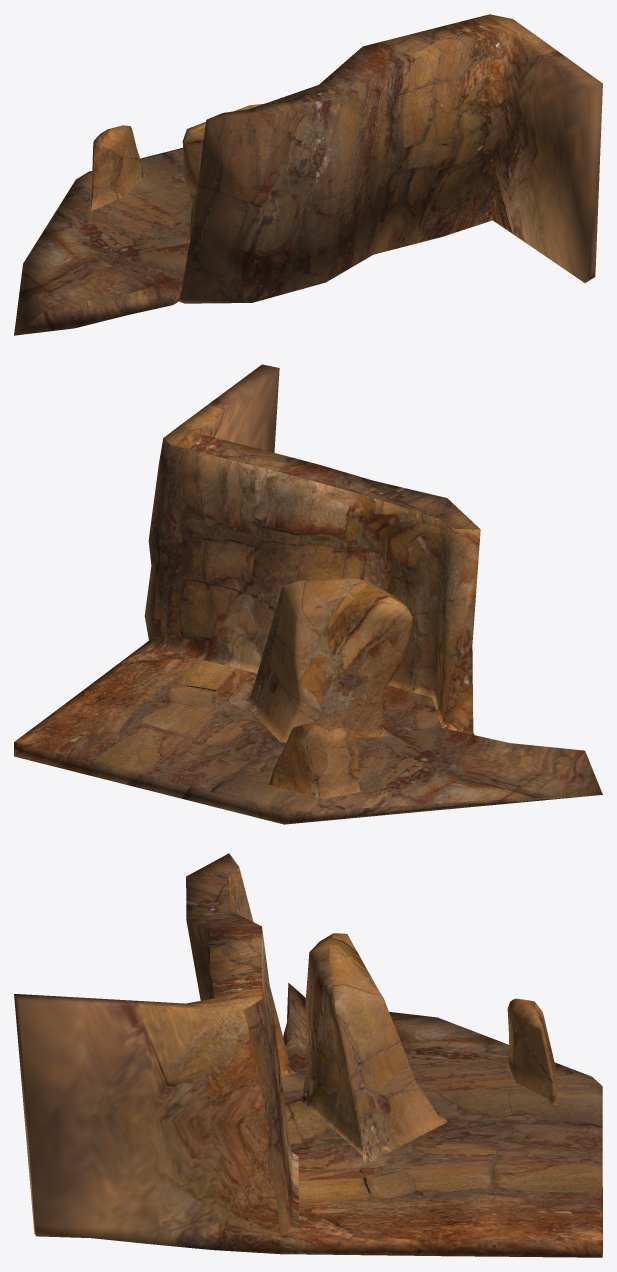
The model's file is Ground000.fbx.
3 views of the same model, one above another, from view 1: azimuth 30°, elevation 25°; view 2: azimuth 150°, elevation 25°; view 3: azimuth 270°, elevation 25° (orthographic). The views are drawn at different scales.
Visible parts, largest first — view 1: 立方体.005; view 2: 立方体.005; view 3: 立方体.005.
Part boxes in pixels (bbox=[...]): 立方体.005: bbox=[14, 14, 602, 335]; 立方体.005: bbox=[14, 364, 602, 824]; 立方体.005: bbox=[14, 853, 602, 1257].
Bounding box in the file's own units: 30.53 × 14.05 × 27.65.
